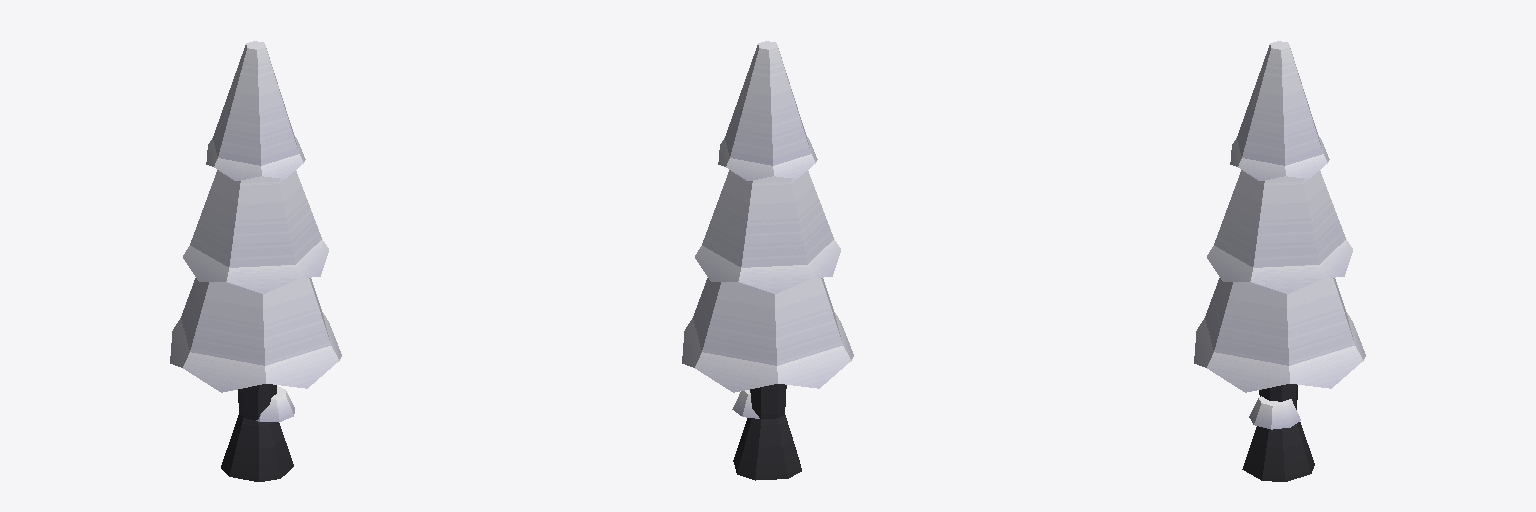
The picture shows the model from 3 angles: view 1: azimuth 30°, elevation 25°; view 2: azimuth 150°, elevation 25°; view 3: azimuth 270°, elevation 25°; orthographic projection.
Visible parts, largest first — view 1: tree.019; view 2: tree.019; view 3: tree.019.
Boxes of the visible parts, x1=… form: tree.019: x1=170, y1=41, x2=341, y2=481; tree.019: x1=682, y1=41, x2=853, y2=480; tree.019: x1=1194, y1=41, x2=1365, y2=481.
Bounding box in the file's own units: 1.35 × 3.47 × 1.29.
Materials: 1 (1 with a texture image).